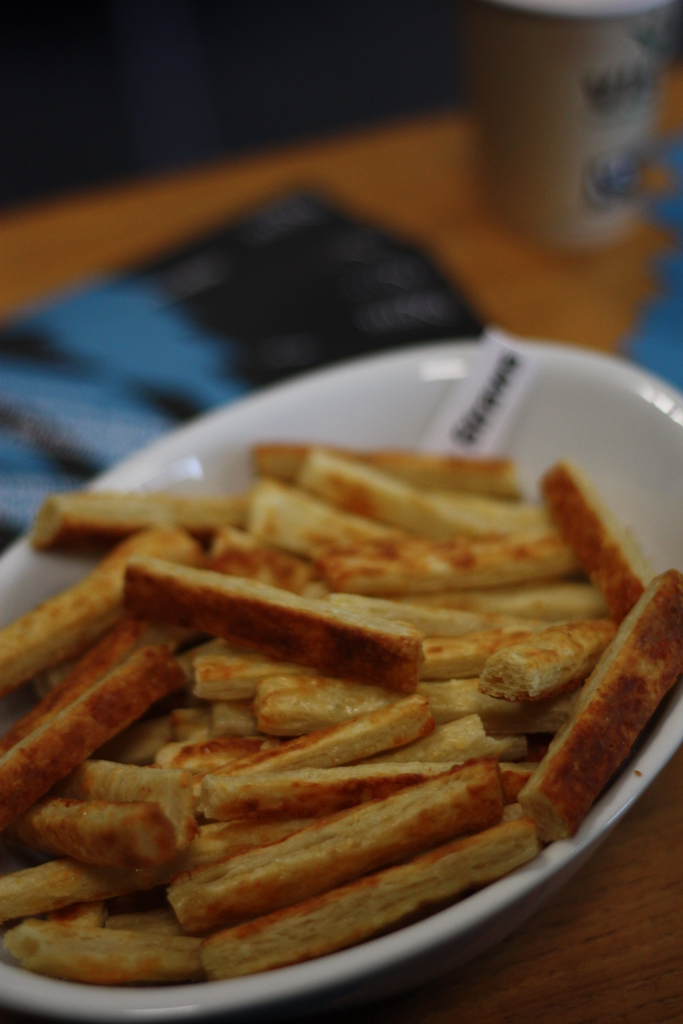French fries: (1, 412, 682, 967)
